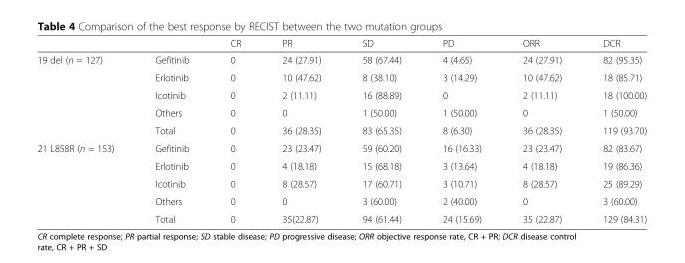table: (36, 37, 646, 224)
table column: (36, 37, 134, 224), (260, 37, 341, 224), (341, 37, 421, 224), (421, 37, 501, 224), (501, 37, 581, 224), (134, 37, 209, 224), (581, 37, 646, 224), (209, 37, 260, 224)
table column header: (36, 37, 646, 51)
table row: (36, 85, 646, 103), (36, 103, 646, 121), (36, 121, 646, 139), (36, 156, 646, 174), (36, 174, 646, 192), (36, 51, 646, 68), (36, 68, 646, 85), (36, 139, 646, 156), (36, 192, 646, 209), (36, 209, 646, 224), (36, 37, 646, 51)
table spanning cell: (36, 51, 134, 139), (36, 139, 134, 224)
